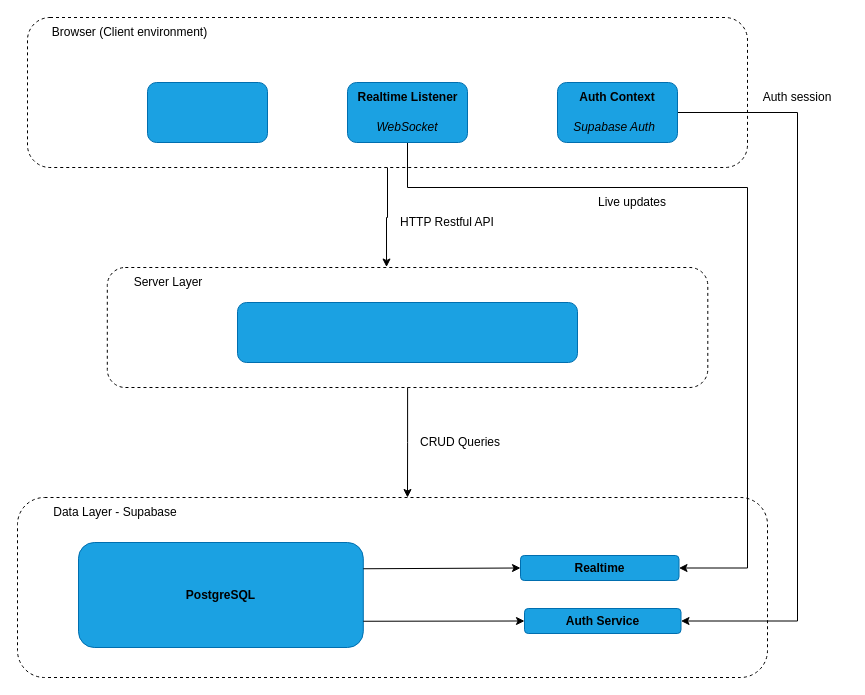
Some shapes in this 865 by 695 pixel diagram are drawn without their labels. The centre of each missing label's shape, as x and y in pixels:
"Express API" goes at pixel 407 332.
"React UI" goes at pixel 207 112.
